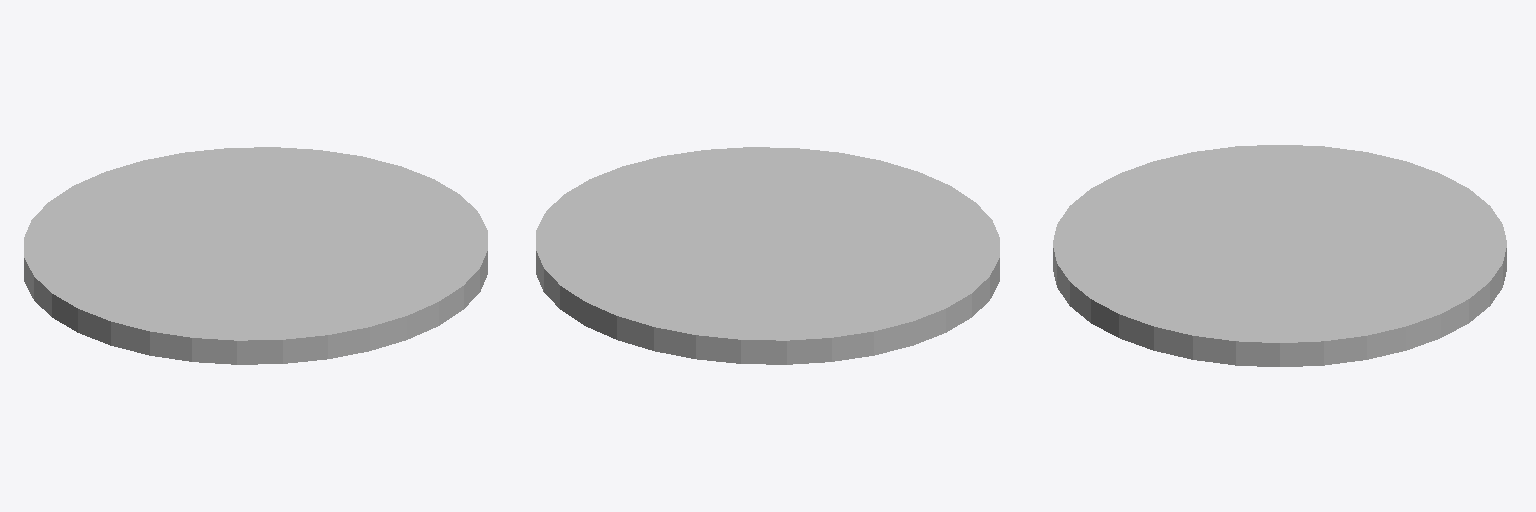
Rendered from comida.obj.
The picture shows the model from 3 angles: view 1: azimuth 30°, elevation 25°; view 2: azimuth 150°, elevation 25°; view 3: azimuth 270°, elevation 25°; orthographic projection.
Parts seen in each view (by area): view 1: Cylinder; view 2: Cylinder; view 3: Cylinder.
Boxes of the visible parts, box(x1,y1,x2,y2) form: Cylinder: box(24, 147, 487, 364); Cylinder: box(536, 147, 999, 364); Cylinder: box(1053, 145, 1506, 366).
Size of the model in its own units: 1.4 by 0.0796 by 1.36.